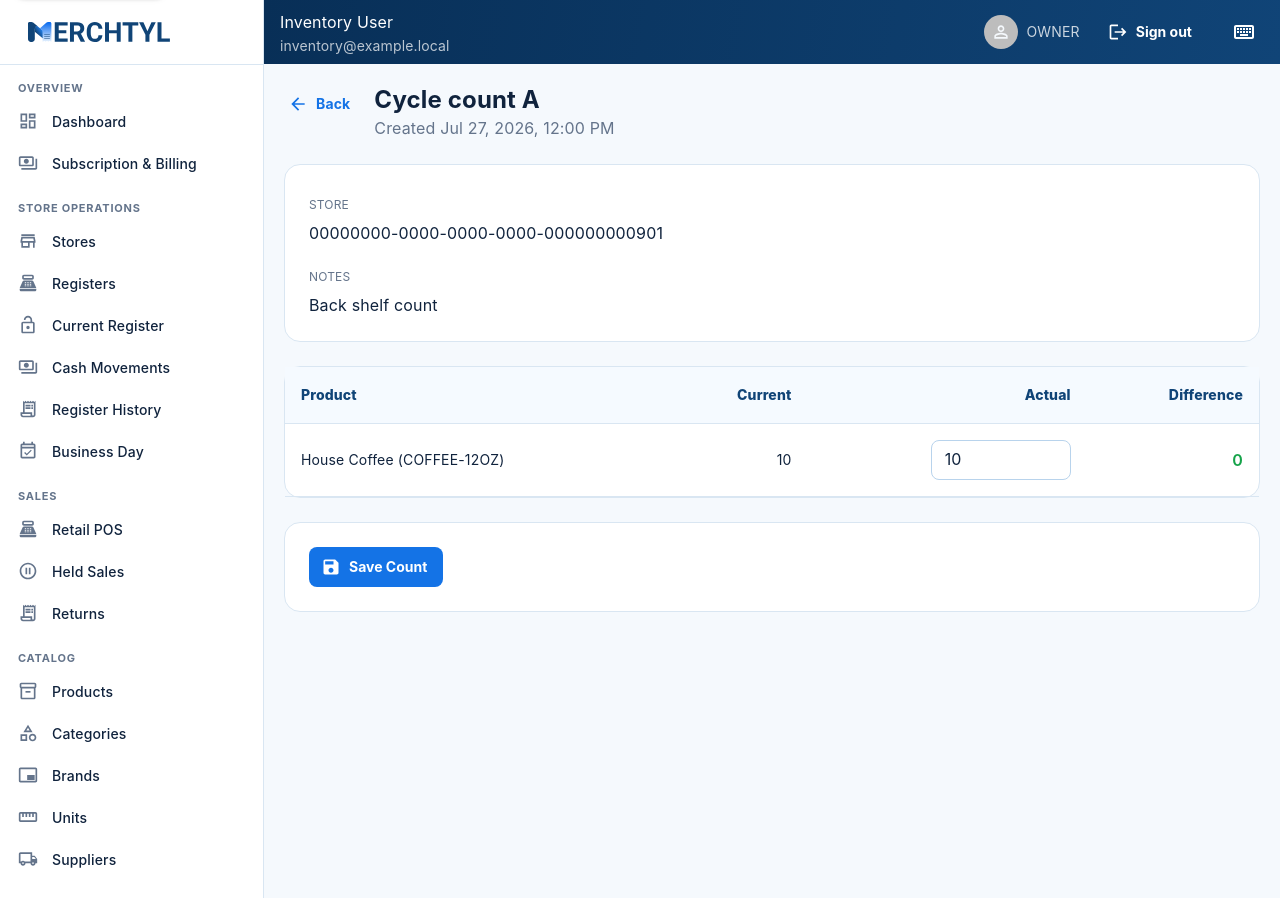
Stock count pages › saves an existing in-review count without review or post actions
The width and height of the screenshot is (1280, 898).
Expected: the heading "Cycle count A" is shown, [374,85,540,114]
Clear the number field named "Counted quantity for House Coffee (COFFEE-12OZ)": (1001, 460) [931,440,1071,480]
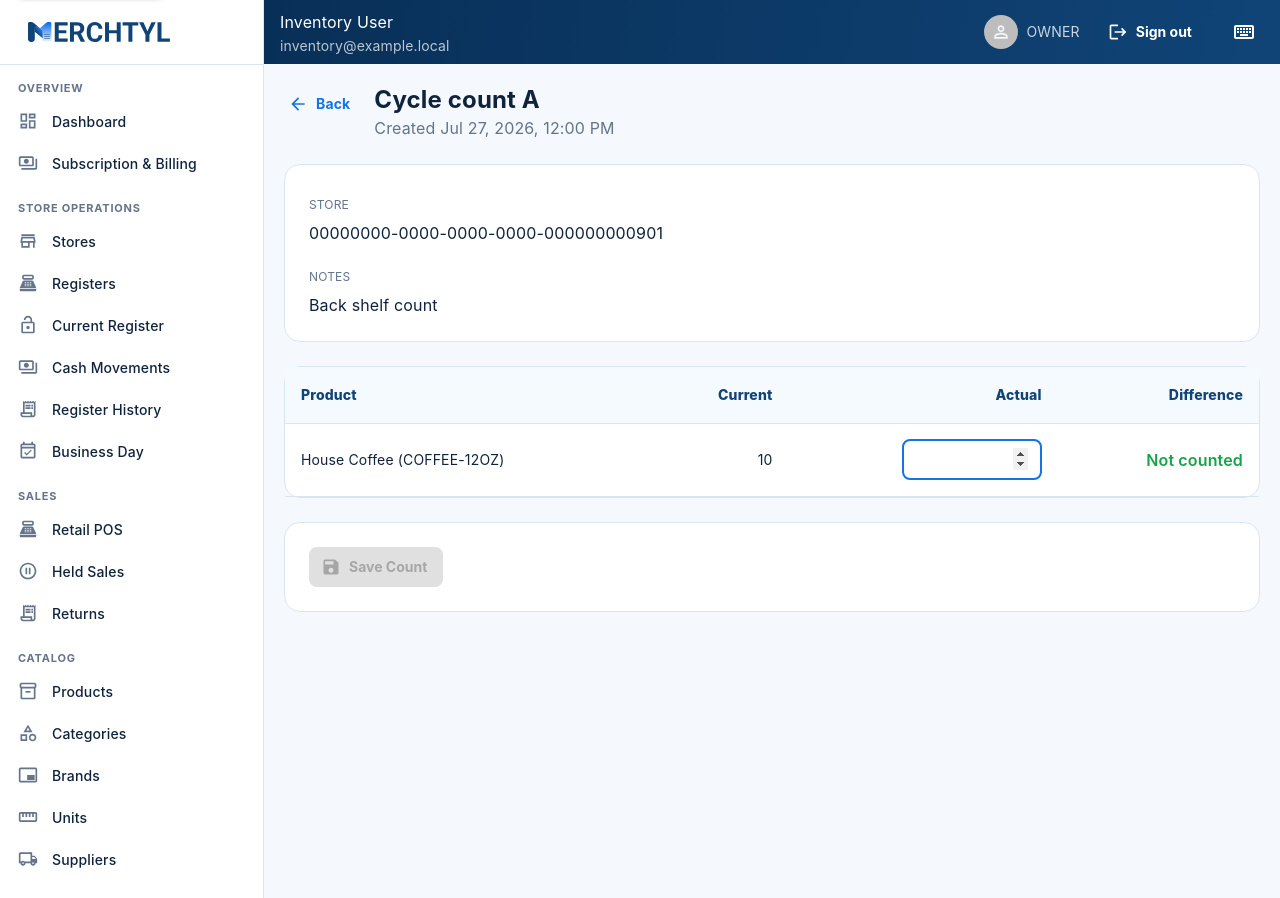
In the number field named "Counted quantity for House Coffee (COFFEE-12OZ)": (972, 460) [902,440,1042,480], type "7"
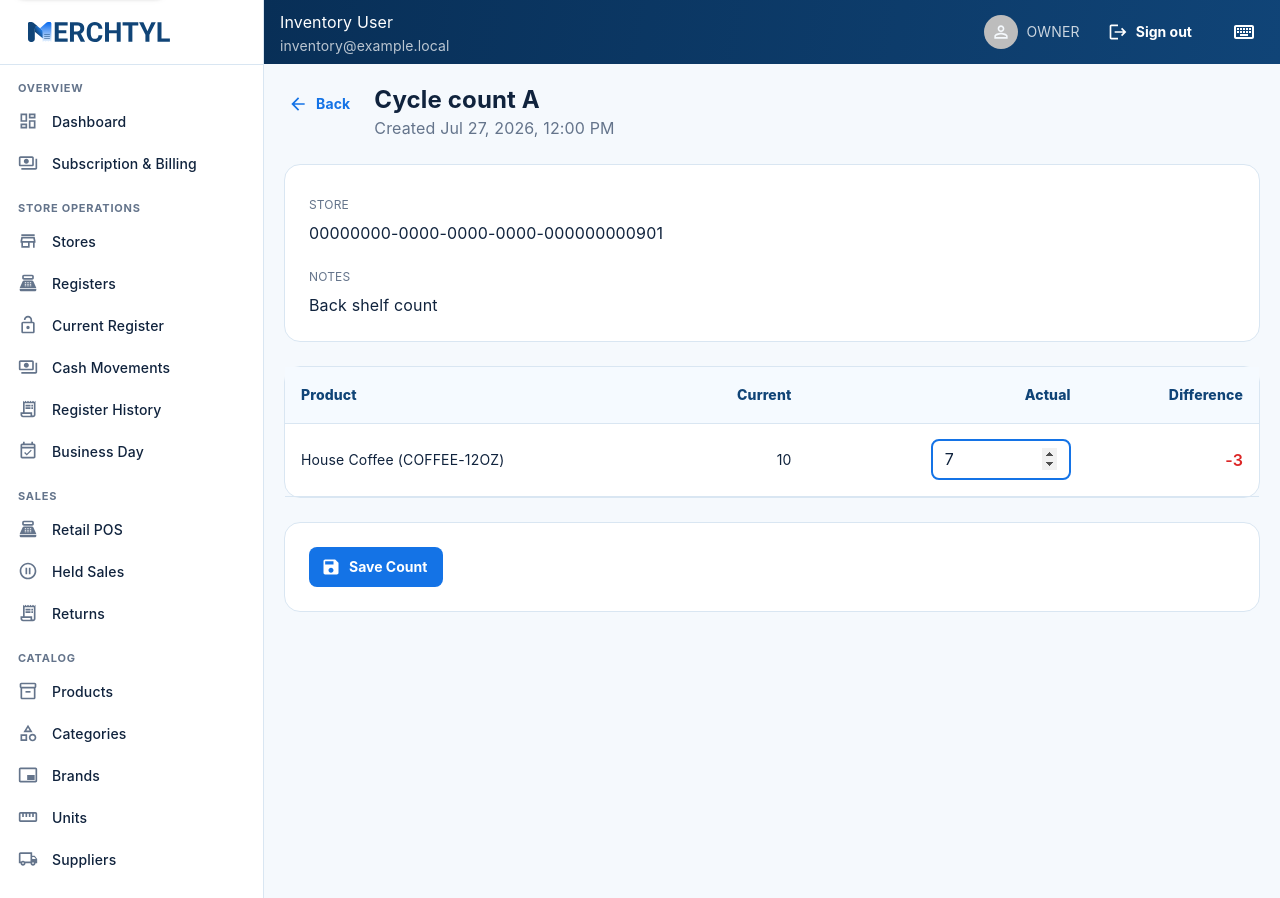
Result: the button "Save Count" is enabled
Click the button "Save Count": click(376, 567) [309,547,443,587]
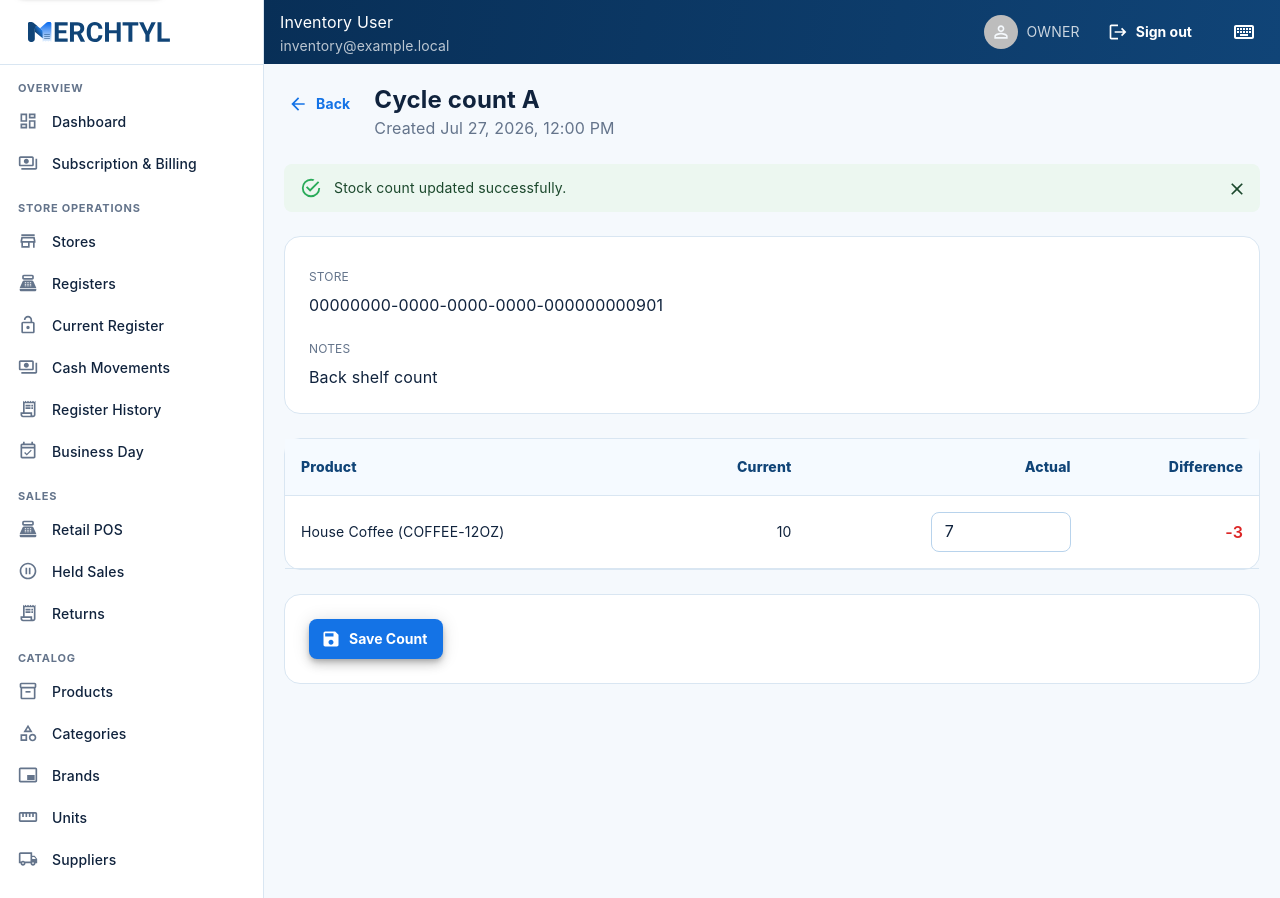
Result: the text "-3" is shown at [1225,522,1243,542]
Result: the text "Stock count updated successfully." is shown at [334,179,566,196]
